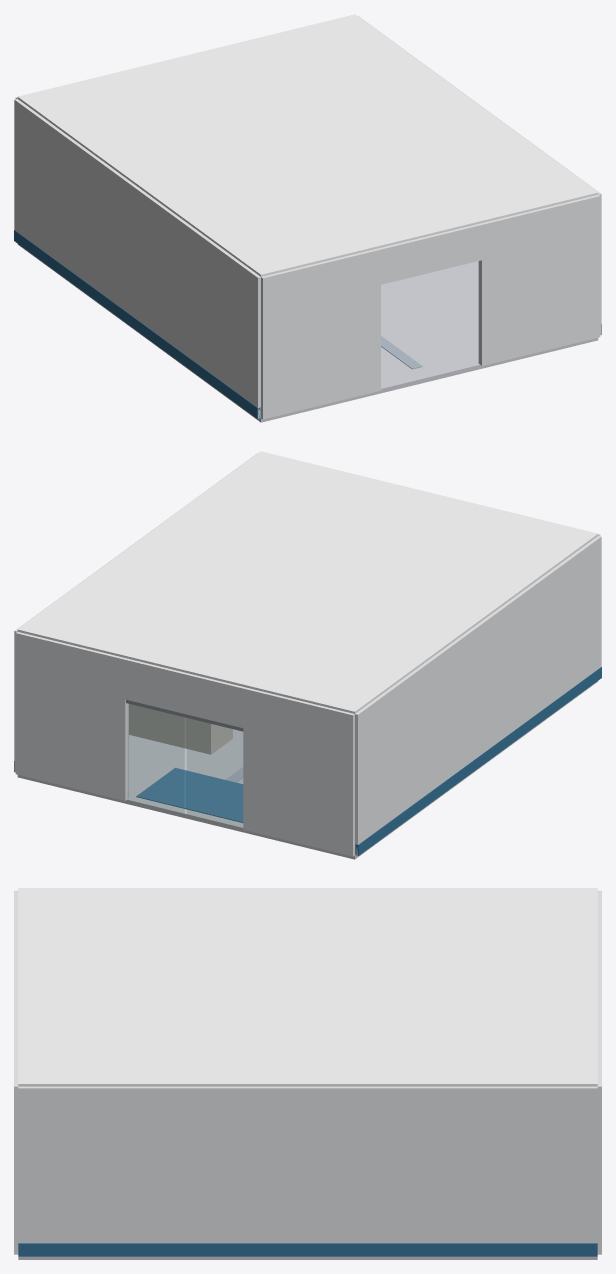
The model's file is entrance.glb.
The picture shows the model from 3 angles, top to bottom: view 1: azimuth 30°, elevation 25°; view 2: azimuth 150°, elevation 25°; view 3: azimuth 270°, elevation 25°; orthographic projection. The views are drawn at different scales.
Parts seen in each view (by area): view 1: Ceiling, WallLeft, BackWallR, BackWallL, Floor, BackWallHeader, TrimLeft, WallRight; view 2: Ceiling, WallLeft, FrontWallR, FrontWallL, Floor, GlassDoorR, GlassDoorL, FrontWallHeader, EntranceMat, DeskBody, TrimLeft, WallRight; view 3: Ceiling, WallRight, TrimRight, Floor, BackWallR, FrontWallR.
Part boxes in pixels (left/top/right/bottom): Ceiling: left=17, top=14, right=598, bottom=276; WallLeft: left=14, top=99, right=260, bottom=418; BackWallR: left=478, top=194, right=600, bottom=365; BackWallL: left=261, top=248, right=380, bottom=419; Floor: left=17, top=244, right=598, bottom=422; BackWallHeader: left=379, top=223, right=481, bottom=284; TrimLeft: left=14, top=230, right=260, bottom=418; WallRight: left=357, top=16, right=601, bottom=335; Ceiling: left=17, top=451, right=598, bottom=713; WallLeft: left=355, top=536, right=601, bottom=855; FrontWallR: left=15, top=631, right=128, bottom=800; FrontWallL: left=243, top=687, right=354, bottom=856; Floor: left=17, top=681, right=598, bottom=859; GlassDoorR: left=128, top=704, right=185, bottom=813; GlassDoorL: left=187, top=718, right=242, bottom=828; FrontWallHeader: left=125, top=658, right=244, bottom=727; EntranceMat: left=136, top=768, right=243, bottom=822; DeskBody: left=129, top=704, right=232, bottom=754; TrimLeft: left=355, top=667, right=601, bottom=855; WallRight: left=14, top=453, right=258, bottom=772; Ceiling: left=18, top=888, right=597, bottom=1086; WallRight: left=18, top=1086, right=597, bottom=1243; TrimRight: left=18, top=1243, right=597, bottom=1256; Floor: left=18, top=1256, right=597, bottom=1259; BackWallR: left=14, top=1018, right=18, bottom=1254; FrontWallR: left=597, top=1023, right=601, bottom=1254.
Bounding box in the file's own units: 8.17 × 3.35 × 10.15.
